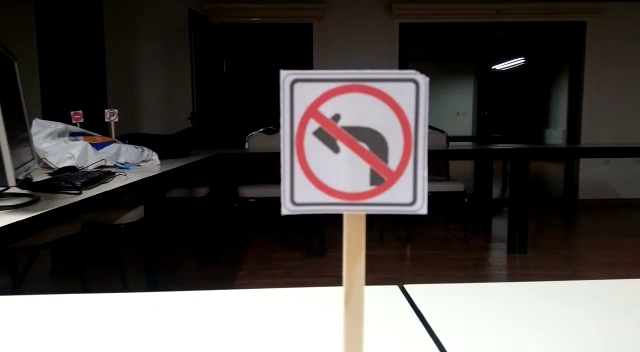sola_donulmez: (285, 81, 421, 208)
